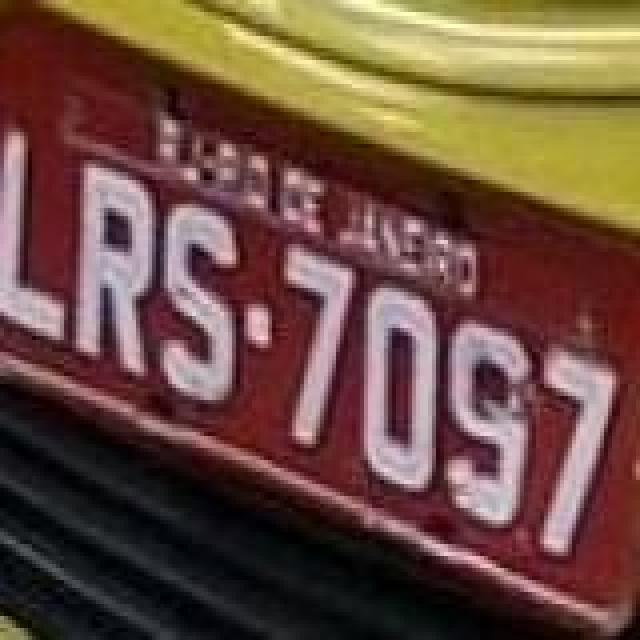7: (532, 344, 620, 568), (280, 238, 360, 450)
9: (442, 316, 534, 532)
L: (0, 128, 64, 344)
O: (356, 280, 444, 496)
R: (72, 160, 160, 384)
S: (158, 198, 242, 410)
